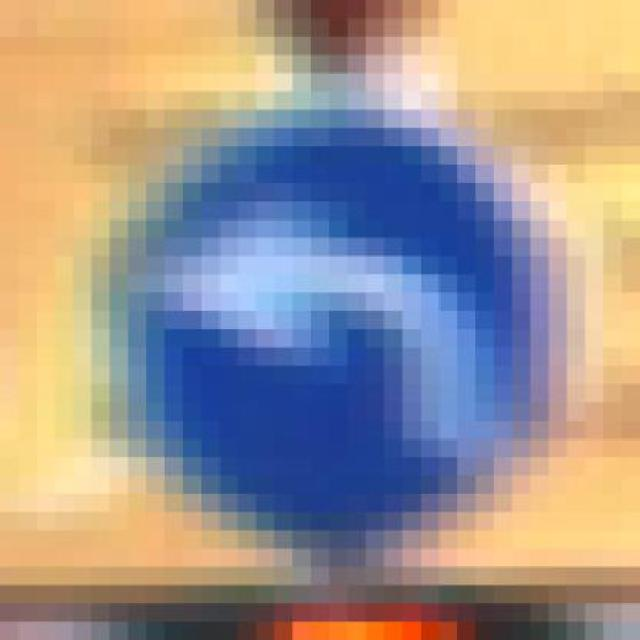Turn left ahead: (92, 92, 586, 586)
